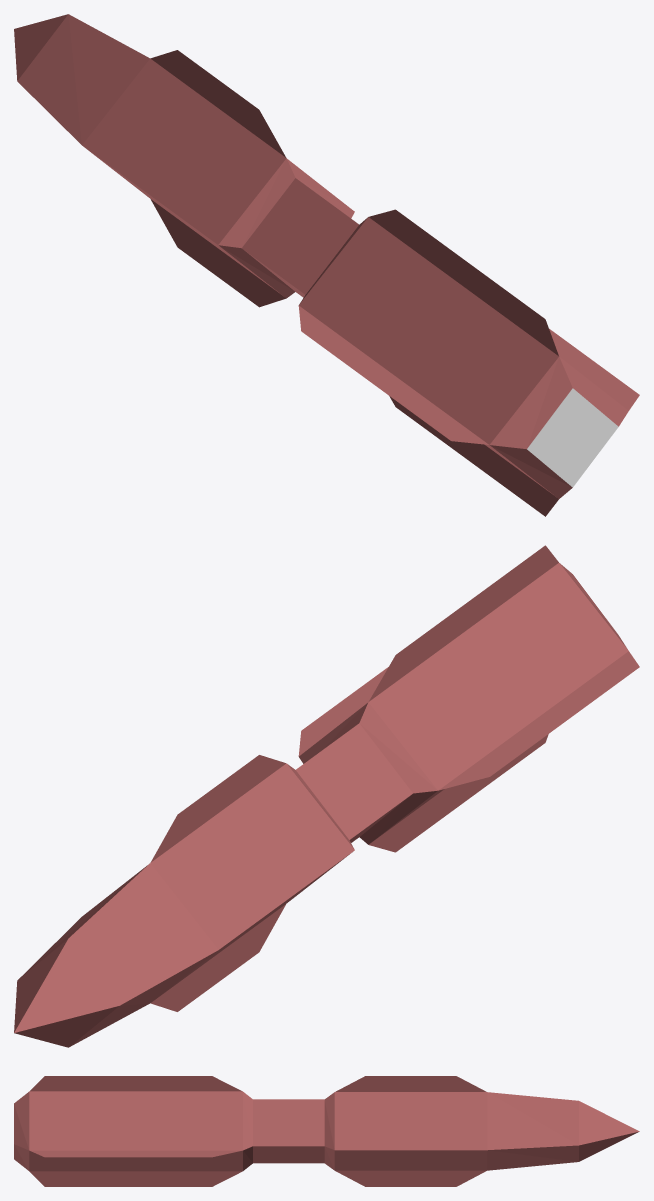
3 renders of one model, top to bottom at view 1: azimuth 30°, elevation 25°; view 2: azimuth 150°, elevation 25°; view 3: azimuth 270°, elevation 25°, orthographic. The views are drawn at different scales.
Parts seen in each view (by area): view 1: Spitze02, Heck02, B_Rocket, WingC01, Fire01, WingB01, Wing02, Wing01, WingD01, WingA01; view 2: Spitze02, Heck02, B_Rocket, WingC01, WingB01, Wing02, Wing01, WingD01, WingA01; view 3: Spitze02, Heck02, B_Rocket, WingC01, WingD01, Wing02, Wing01, WingA01.
Boxes of the visible parts, <box> form: Spitze02: <box>14,14,354,298</box>; Heck02: <box>299,217,628,498</box>; B_Rocket: <box>242,178,359,297</box>; WingC01: <box>369,209,558,355</box>; Fire01: <box>527,388,618,487</box>; WingB01: <box>298,305,488,444</box>; Wing02: <box>150,199,286,307</box>; Wing01: <box>150,50,286,157</box>; WingD01: <box>389,396,558,516</box>; WingA01: <box>549,328,639,410</box>; Spitze02: <box>14,763,354,1047</box>; Heck02: <box>299,563,628,844</box>; B_Rocket: <box>296,723,412,842</box>; WingC01: <box>368,545,558,701</box>; WingB01: <box>438,651,639,790</box>; Wing02: <box>150,904,285,1011</box>; Wing01: <box>150,755,285,862</box>; WingD01: <box>369,734,548,852</box>; WingA01: <box>298,667,388,756</box>; Spitze02: <box>324,1092,639,1170</box>; Heck02: <box>14,1091,252,1171</box>; B_Rocket: <box>253,1099,324,1163</box>; WingC01: <box>30,1076,241,1091</box>; WingD01: <box>29,1171,242,1186</box>; Wing02: <box>335,1170,486,1186</box>; Wing01: <box>335,1076,486,1091</box>; WingA01: <box>30,1150,241,1157</box>.
Size of the model in its own units: 48.48 by 48.48 by 248.
